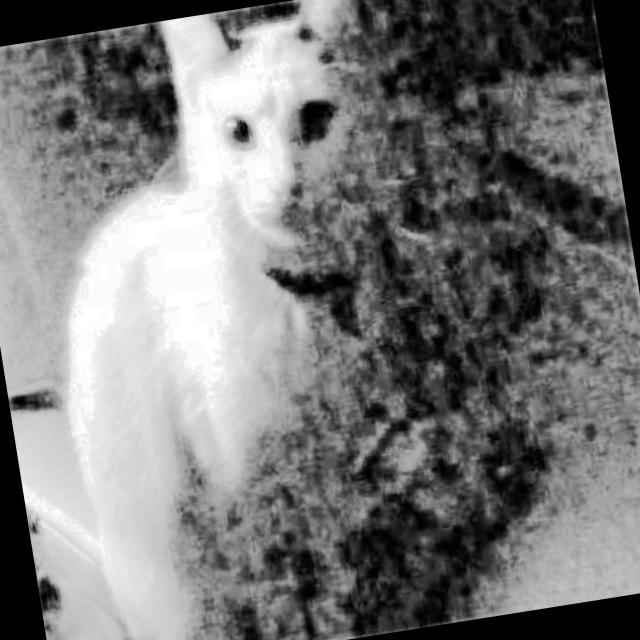Cat: (8, 0, 454, 640)
